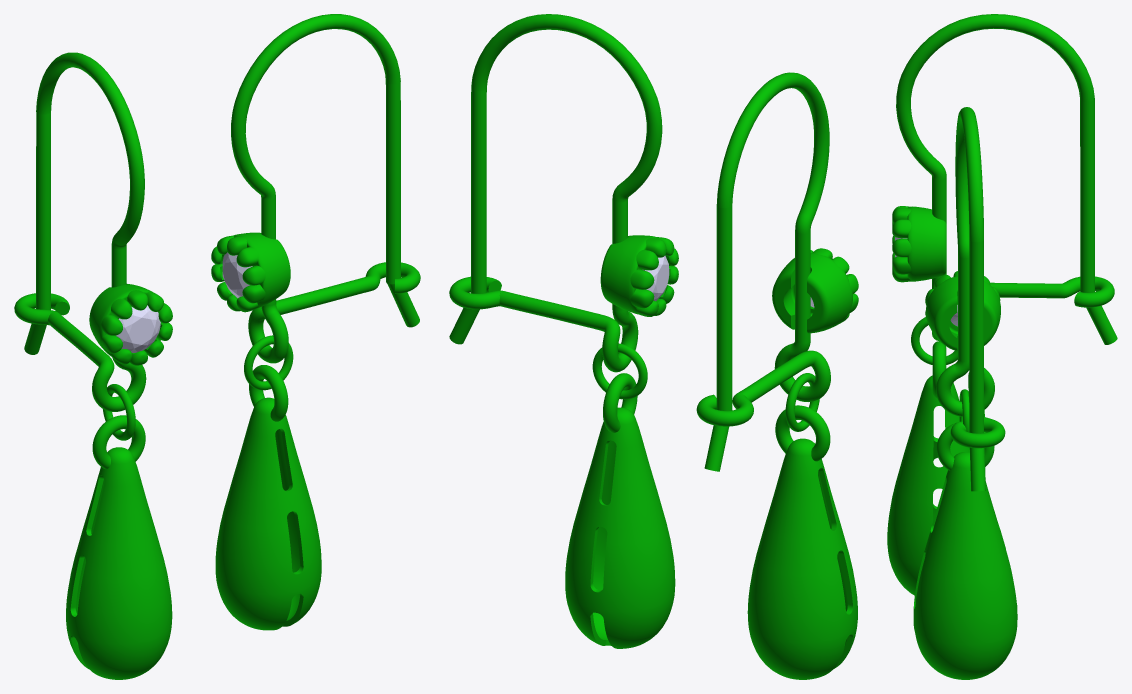
The picture shows the model from 3 angles, left to right: view 1: azimuth 30°, elevation 25°; view 2: azimuth 150°, elevation 25°; view 3: azimuth 270°, elevation 25°; orthographic projection. The views are drawn at different scales.
Parts seen in each view (by area): view 1: EAR-2511542.3dm; view 2: EAR-2511542.3dm; view 3: EAR-2511542.3dm.
Part boxes in pixels (bbox=[...]): EAR-2511542.3dm: bbox=[14, 14, 420, 679]; EAR-2511542.3dm: bbox=[449, 14, 858, 679]; EAR-2511542.3dm: bbox=[887, 14, 1117, 679].
Size of the model in its own units: 2.08 by 3.22 by 1.15.
